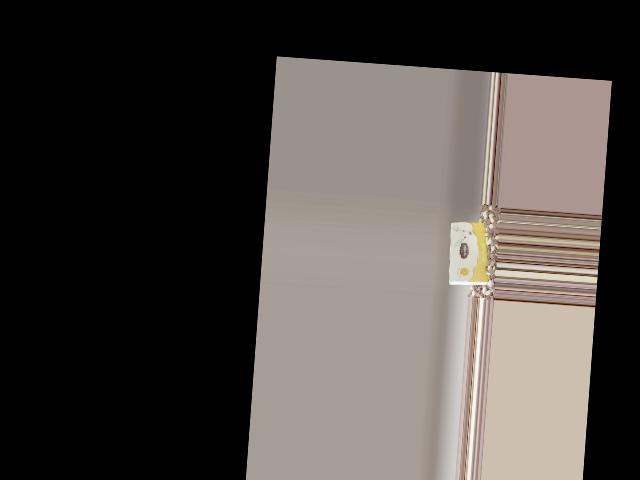chocolate: (444, 216, 494, 290)
